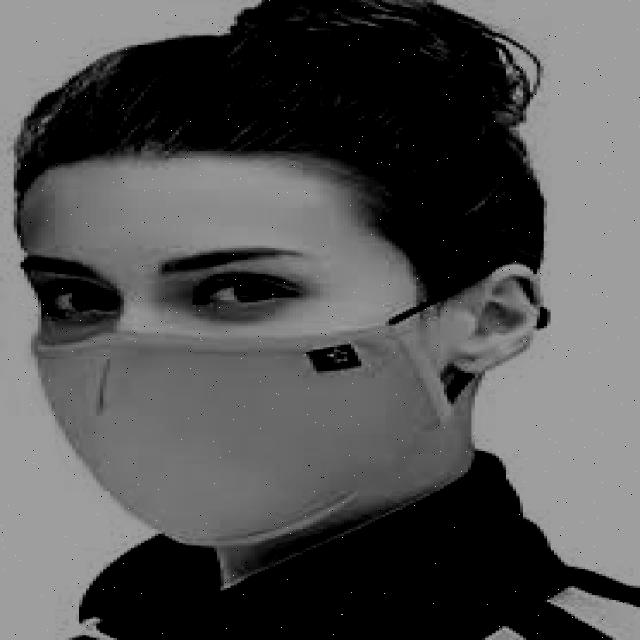fake: (30, 317, 449, 549)
real: (15, 154, 473, 564)
